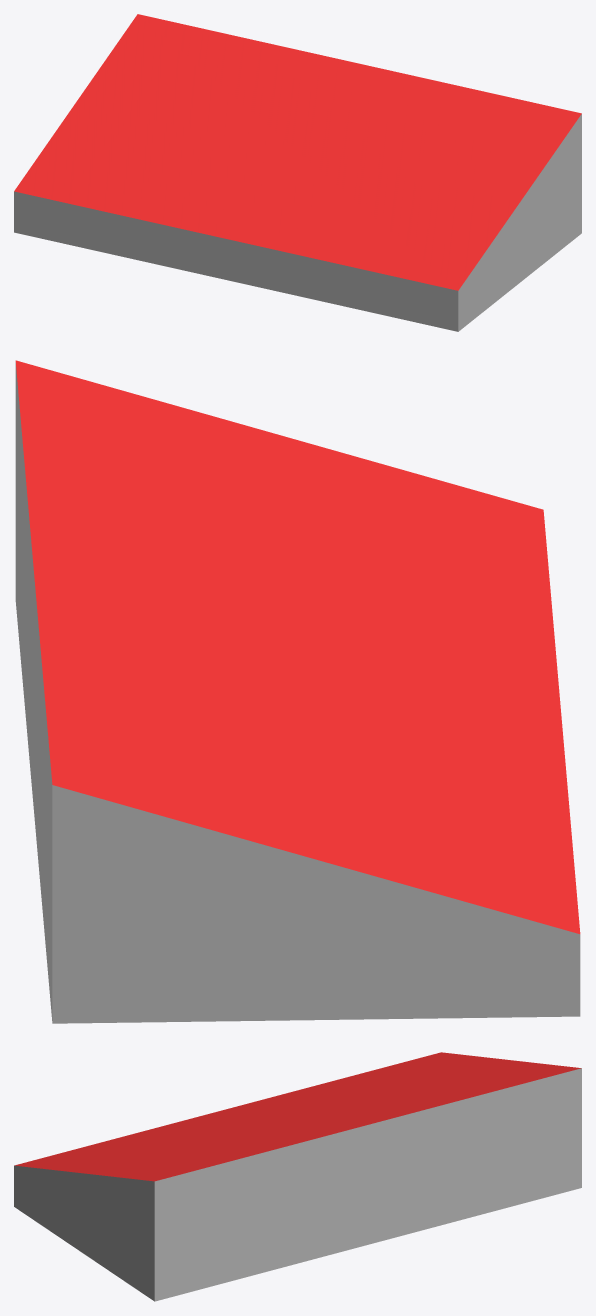
The model's file is DEBE3D01YYK0002Lys.dae.
The picture shows the model from 3 angles, top to bottom: view 1: azimuth 30°, elevation 25°; view 2: azimuth 150°, elevation 25°; view 3: azimuth 270°, elevation 25°; orthographic projection. The views are drawn at different scales.
Size of the model in its own units: 4.44 by 5.12 by 1.2.
